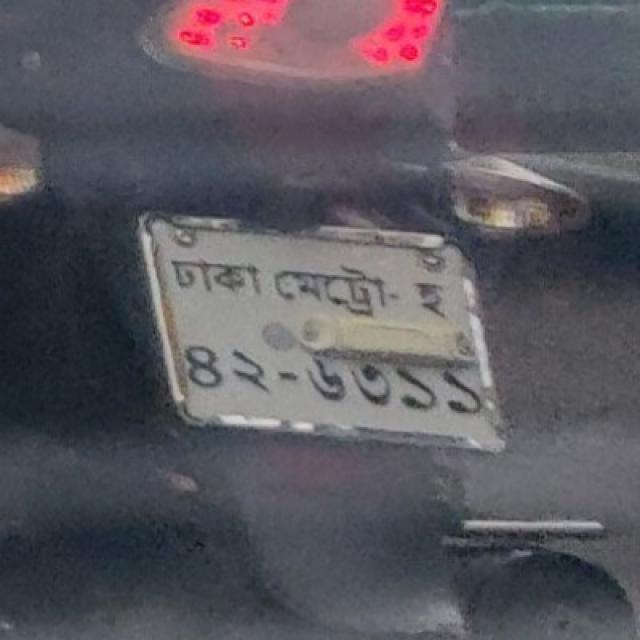numberplate: (133, 205, 510, 456)
